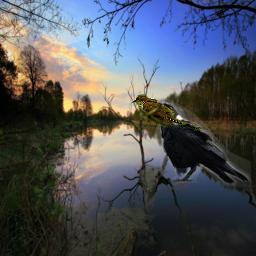Crow: (152, 98, 251, 187)
Cuckoo: (131, 94, 202, 131)
